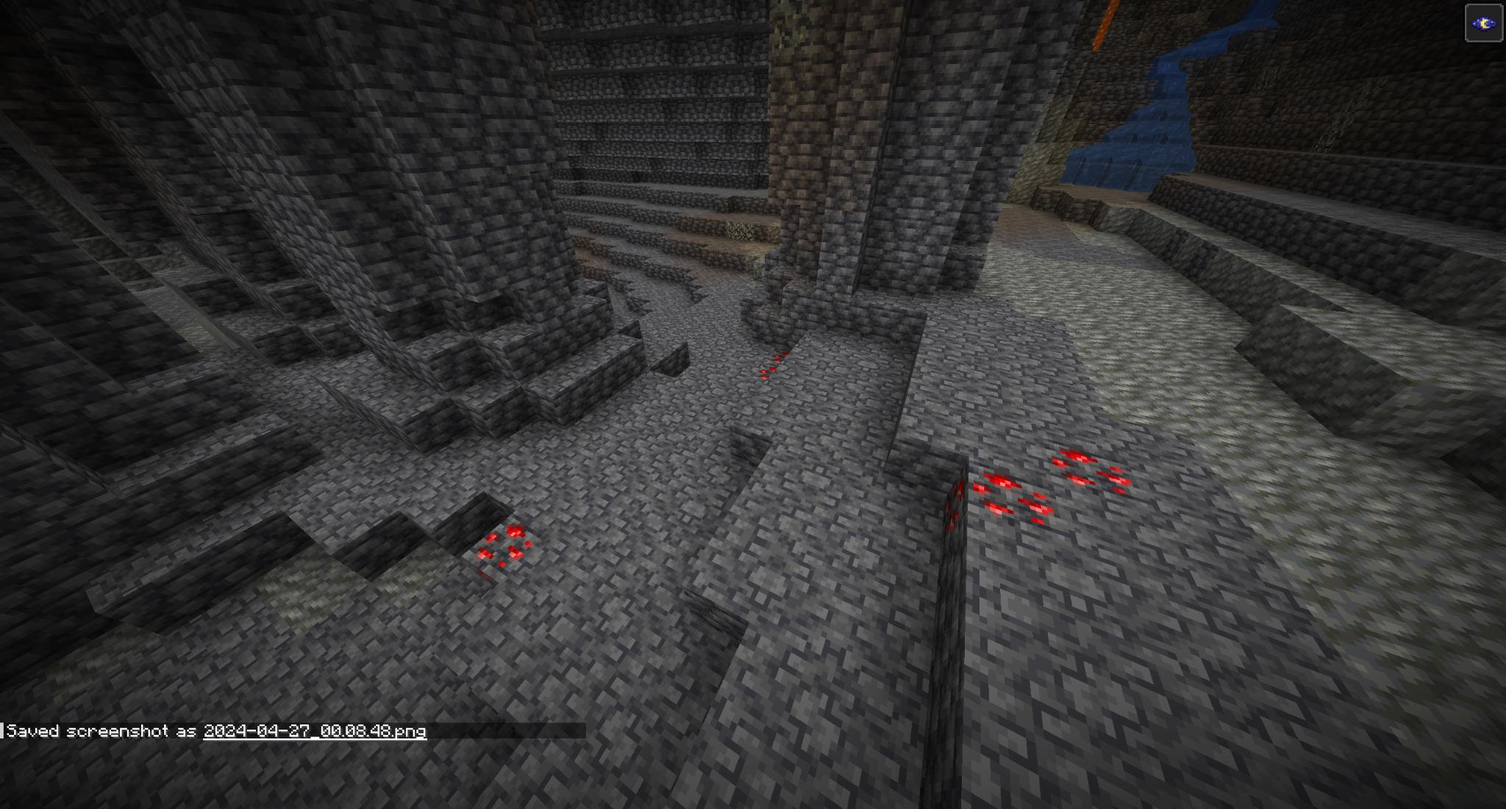redstone ore: (977, 475, 1056, 533), (1054, 443, 1131, 499), (475, 521, 531, 571), (946, 475, 973, 533)
